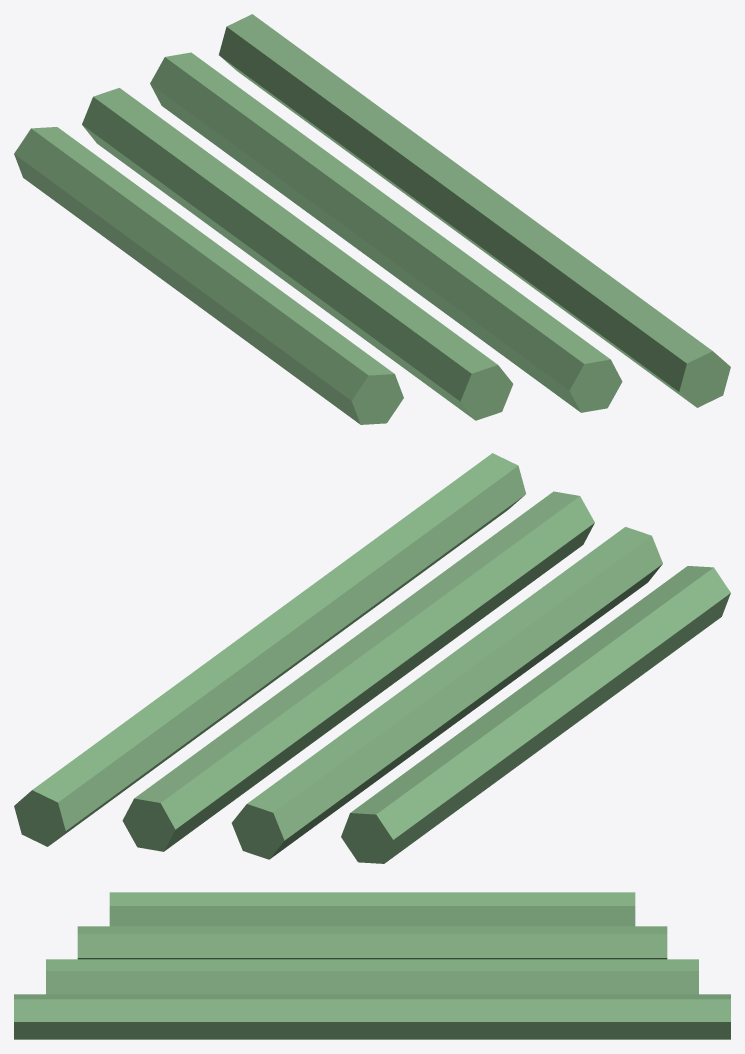
The model's file is turtle_grass.glb.
3 views of the same model, one above another, from view 1: azimuth 30°, elevation 25°; view 2: azimuth 150°, elevation 25°; view 3: azimuth 270°, elevation 25° (orthographic). The views are drawn at different scales.
Parts seen in each view (by area): view 1: world; view 2: world; view 3: world.
Boxes of the visible parts, x1,y1,x2,y2 form: world: [14, 14, 730, 424]; world: [14, 453, 730, 863]; world: [14, 892, 730, 1039].
Size of the model in its own units: 0.598 by 0.0956 by 1.5.
